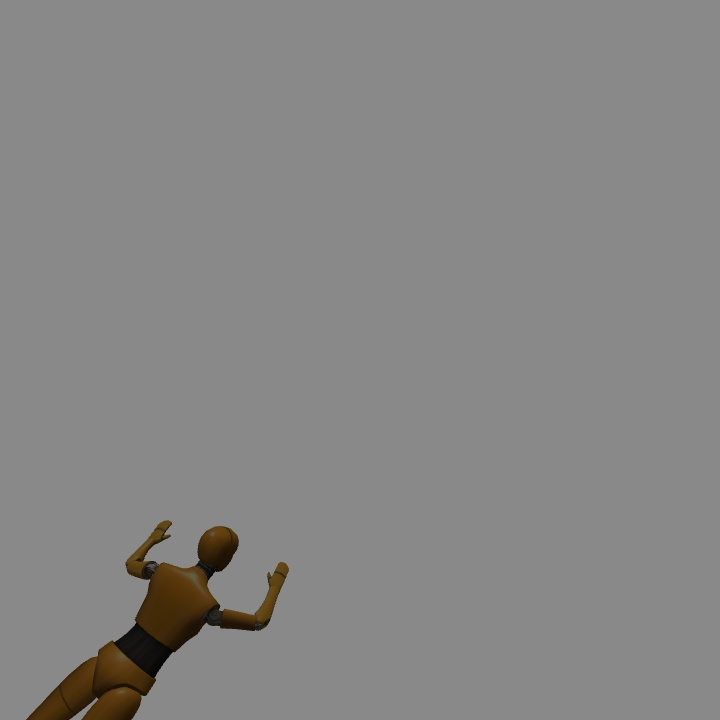victim: (29, 524, 287, 719)
